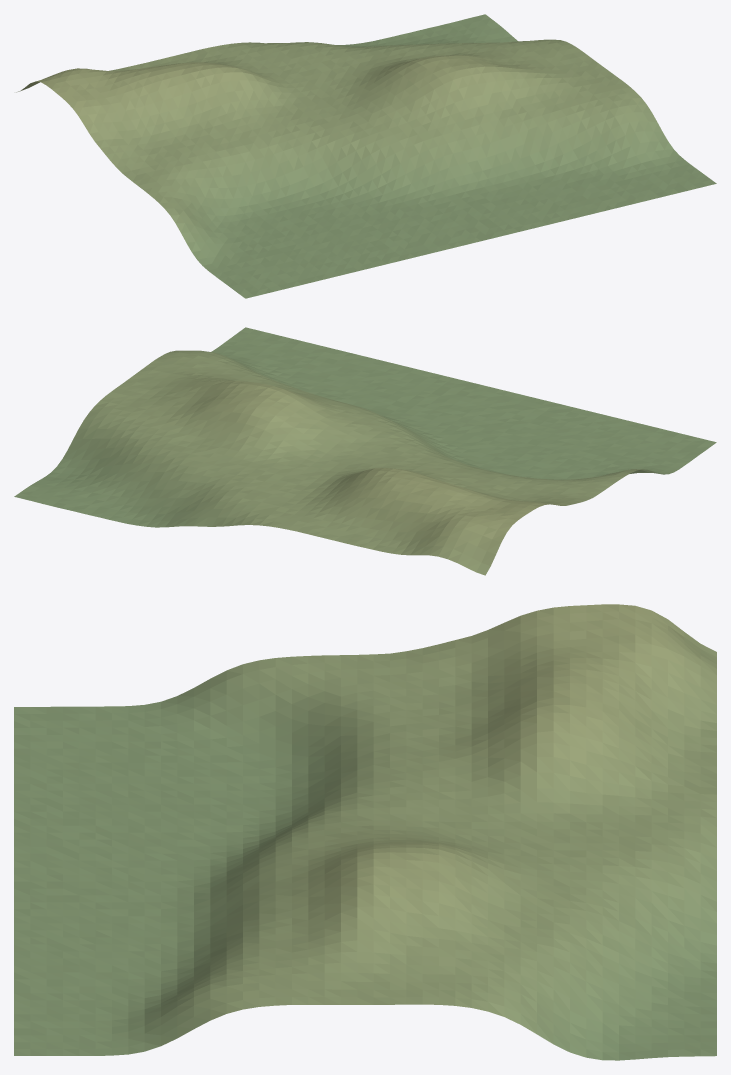
File: Terrain_0_1.glb
3 renders of one model, top to bottom at view 1: azimuth 30°, elevation 25°; view 2: azimuth 150°, elevation 25°; view 3: azimuth 270°, elevation 25°, orthographic. The views are drawn at different scales.
Visible parts, largest first — view 1: Terrain_0_1; view 2: Terrain_0_1; view 3: Terrain_0_1.
Part boxes in pixels (left/top/right/bottom): Terrain_0_1: left=16, top=14, right=716, bottom=298; Terrain_0_1: left=14, top=327, right=716, bottom=575; Terrain_0_1: left=14, top=604, right=716, bottom=1060.
Size of the model in its own units: 288 by 41.1 by 245.
